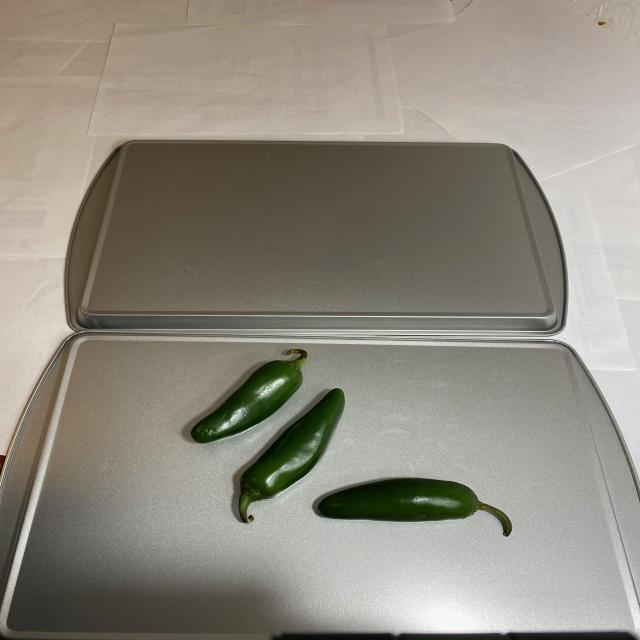chilli: (186, 343, 520, 548)
